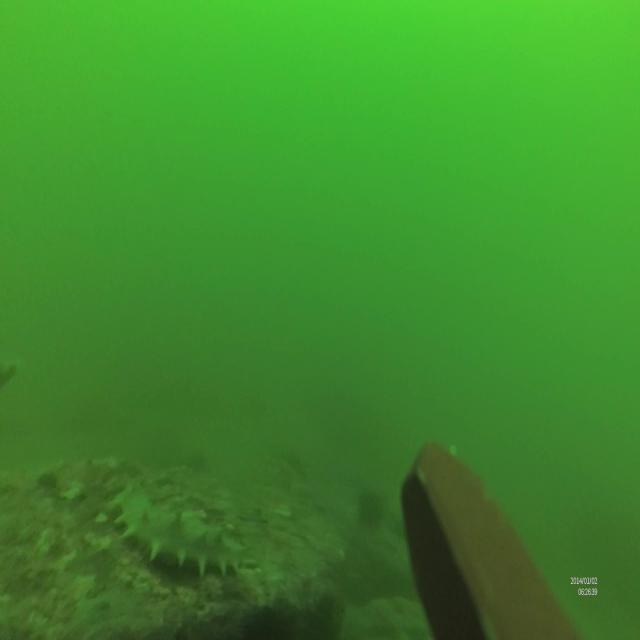echinus: (355, 487, 387, 533)
holothurian: (112, 486, 245, 576)
